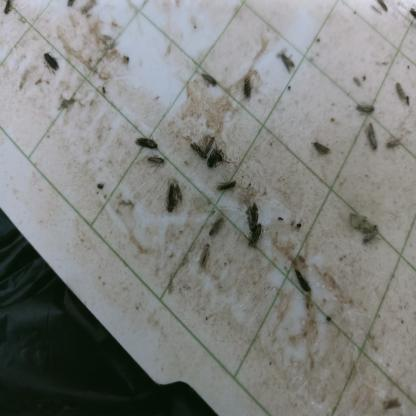prays_oleae: (352, 216, 380, 252), (188, 124, 213, 162), (292, 262, 313, 300), (392, 78, 413, 115), (162, 180, 182, 216), (277, 47, 299, 79), (133, 126, 158, 153), (311, 140, 333, 169), (39, 51, 64, 76), (145, 147, 166, 171), (206, 214, 226, 238), (207, 151, 230, 171), (384, 129, 401, 155), (216, 176, 236, 196), (366, 117, 378, 150), (355, 97, 378, 114), (199, 68, 218, 88), (199, 243, 212, 268)
